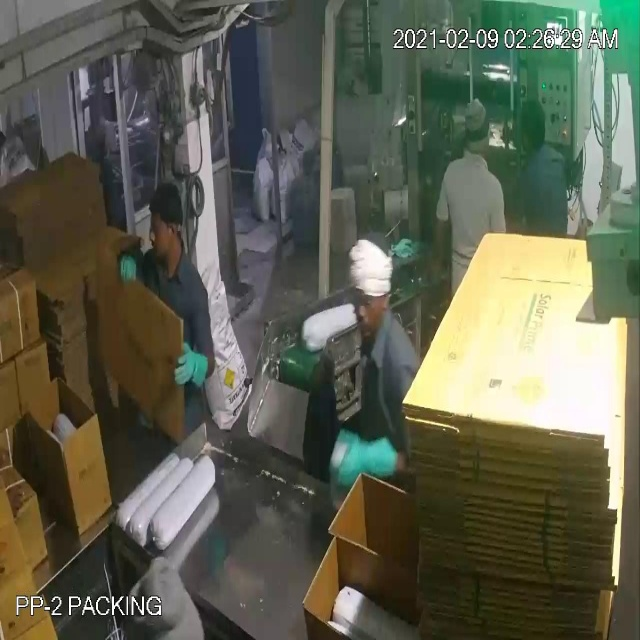Guantes: (327, 420, 402, 500), (168, 332, 218, 404), (113, 248, 144, 296)
